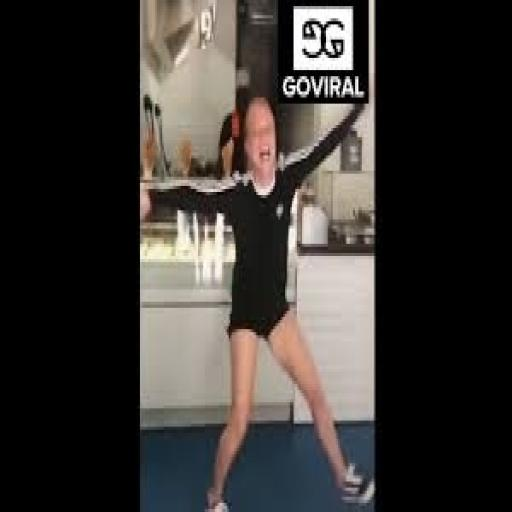dancing: (140, 91, 375, 509)
